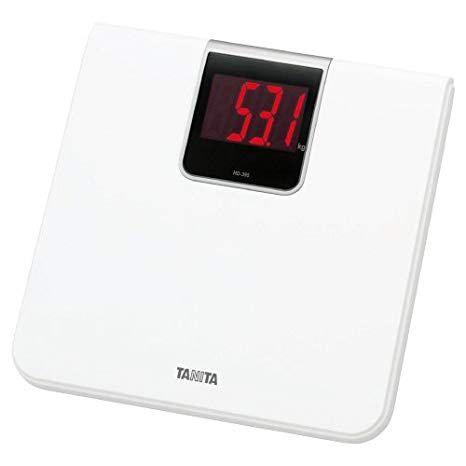LCD: (202, 71, 309, 151)
